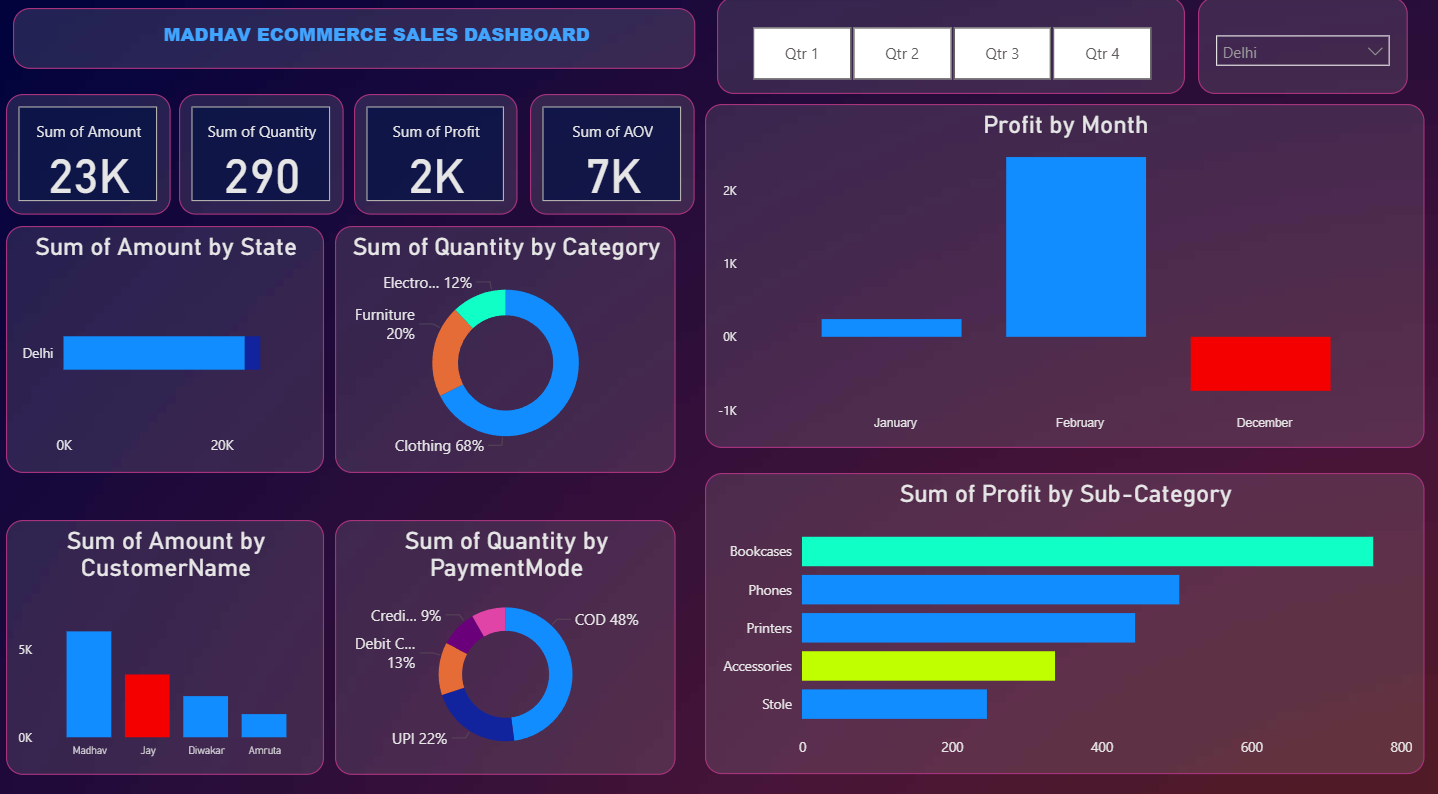

Layout of this report page (visuals, bound fields, positions):
{"tool":"powerbi","page":{"name":"Page 1","canvas":[1280,720],"ordinal":0},"visuals":[{"type":"textbox","box":[15.6,9.7,605,54.5],"z":0},{"type":"columnChart","title":"Profit by Month","fields":{"Category":["Orders.Order Date.Variation.Date Hierarchy.Month"],"Y":["Sum(Details.Profit)"]},"box":[629.3,95.3,638.1,305.4],"z":1000},{"type":"barChart","fields":{"Category":["Details.Sub-Category"],"Y":["Sum(Details.Profit)"]},"box":[629.3,422.1,638.1,267.5],"z":2000},{"type":"donutChart","fields":{"Category":["Details.Category"],"Y":["Sum(Details.Quantity)"]},"box":[301.5,203.3,302.5,218.8],"z":3000},{"type":"donutChart","fields":{"Y":["Sum(Details.Quantity)"],"Category":["Details.PaymentMode"]},"box":[301.5,464,302.5,225.7],"z":4000},{"type":"cardVisual","fields":{"Data":["Sum(Details.Amount)"]},"box":[9.7,85.6,145.9,107],"z":4001},{"type":"cardVisual","fields":{"Data":["Sum(Details.Quantity)"]},"box":[163.4,85.6,145.9,107],"z":4002},{"type":"cardVisual","fields":{"Data":["Sum(Details.Profit)"]},"box":[318.1,85.6,144.9,107],"z":4003},{"type":"cardVisual","fields":{"Data":["Sum(Details.AOV)"]},"box":[474.7,85.6,145.9,107],"z":4004},{"type":"barChart","title":"Sum of Amount by State","fields":{"Category":["Orders.State","Details.Sub-Category"],"Y":["Sum(Details.Amount)","Sum(Details.Profit)"]},"box":[9.7,203.3,282.1,218.8],"z":4005},{"type":"columnChart","fields":{"Category":["Orders.CustomerName"],"Y":["Sum(Details.Amount)"]},"box":[9.7,464,282.1,225.7],"z":4006},{"type":"slicer","fields":{"Values":["Orders.Order Date.Variation.Date Hierarchy.Quarter"]},"box":[640,0,415.3,85.6],"z":4007},{"type":"slicer","fields":{"Values":["Orders.State"]},"box":[1067,0,185.8,85.6],"z":4008}]}

Visuals, with their boxes in screenshot pixels (x1, y1, x2, y2), scaled from the page's 1280x720 canvas onto the 1438x794 screenshot:
textbox: 18, 11, 697, 71
"Profit by Month" columnChart: 707, 105, 1424, 442
barChart - Details.Sub-Category x Sum(Details.Profit): 707, 465, 1424, 760
donutChart - Details.Category x Sum(Details.Quantity): 339, 224, 679, 465
donutChart - Sum(Details.Quantity) x Details.PaymentMode: 339, 512, 679, 761
cardVisual - Sum(Details.Amount): 11, 94, 175, 212
cardVisual - Sum(Details.Quantity): 184, 94, 347, 212
cardVisual - Sum(Details.Profit): 357, 94, 520, 212
cardVisual - Sum(Details.AOV): 533, 94, 697, 212
"Sum of Amount by State" barChart: 11, 224, 328, 465
columnChart - Orders.CustomerName x Sum(Details.Amount): 11, 512, 328, 761
slicer - Orders.Order Date.Variation.Date Hierarchy.Quarter: 719, 0, 1186, 94
slicer - Orders.State: 1199, 0, 1407, 94
